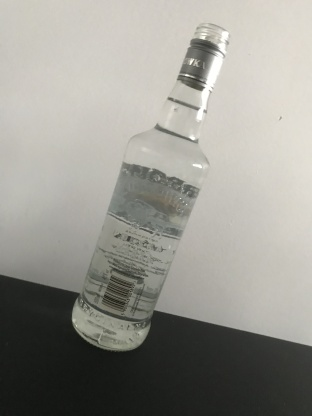nakretka: (175, 19, 231, 95)
